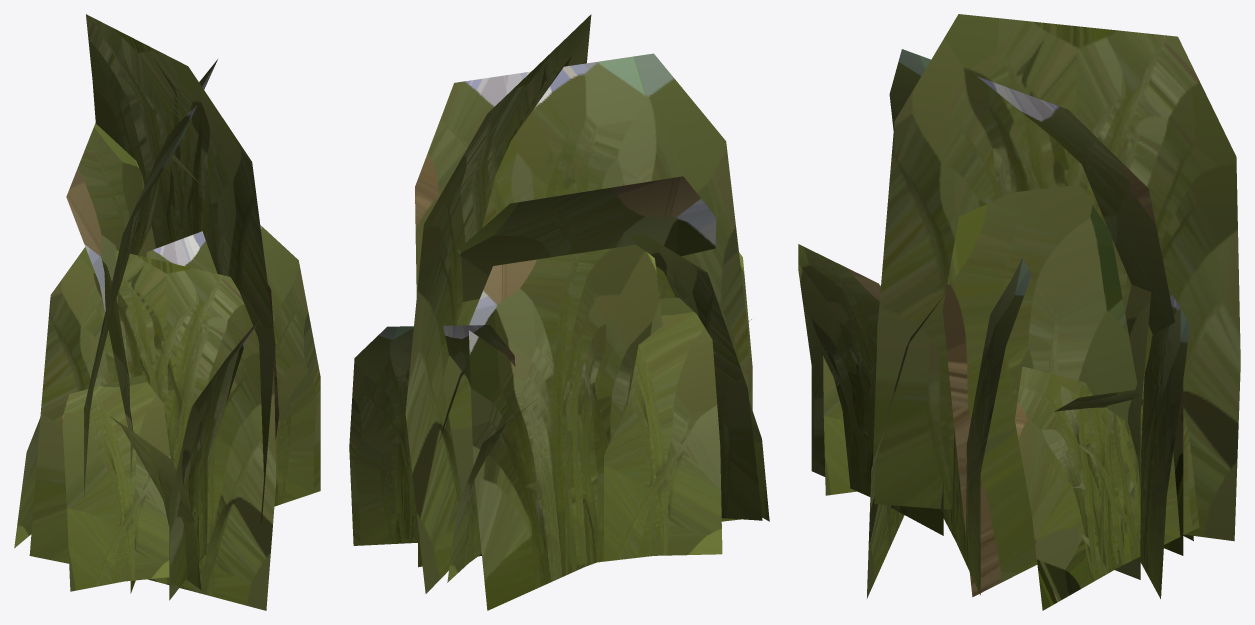
Rendered from GrassTallC_root_afsTREE_xlp.fbx.
The picture shows the model from 3 angles, left to right: view 1: azimuth 30°, elevation 25°; view 2: azimuth 150°, elevation 25°; view 3: azimuth 270°, elevation 25°; orthographic projection. The views are drawn at different scales.
Visible parts, largest first — view 1: GrassA01.003_leaf_xt02_xw05; view 2: GrassA01.003_leaf_xt02_xw05; view 3: GrassA01.003_leaf_xt02_xw05.
Boxes of the visible parts, box(x1,y1,x2,y2) form: GrassA01.003_leaf_xt02_xw05: box(14, 14, 320, 610); GrassA01.003_leaf_xt02_xw05: box(349, 14, 769, 610); GrassA01.003_leaf_xt02_xw05: box(798, 14, 1240, 610).
Size of the model in its own units: 0.3786 by 0.6218 by 0.4402.
